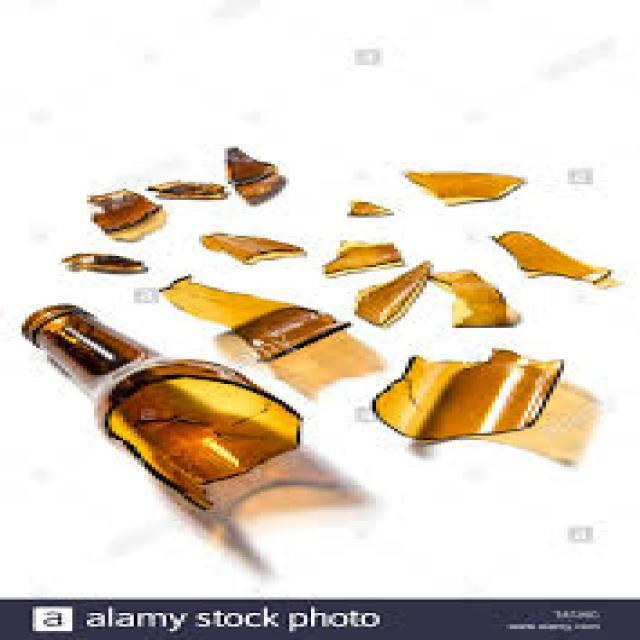Glass-Bottle: (12, 288, 320, 531), (364, 338, 588, 450), (157, 270, 359, 367), (490, 207, 636, 308), (351, 252, 436, 342), (396, 164, 530, 220), (427, 257, 523, 332), (194, 225, 308, 279), (76, 185, 170, 245), (222, 136, 298, 202), (147, 169, 231, 216), (55, 244, 149, 279), (341, 180, 407, 229), (328, 238, 404, 277)
